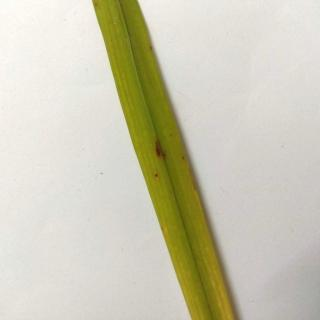bercak-Cokelat: (147, 137, 167, 161)
